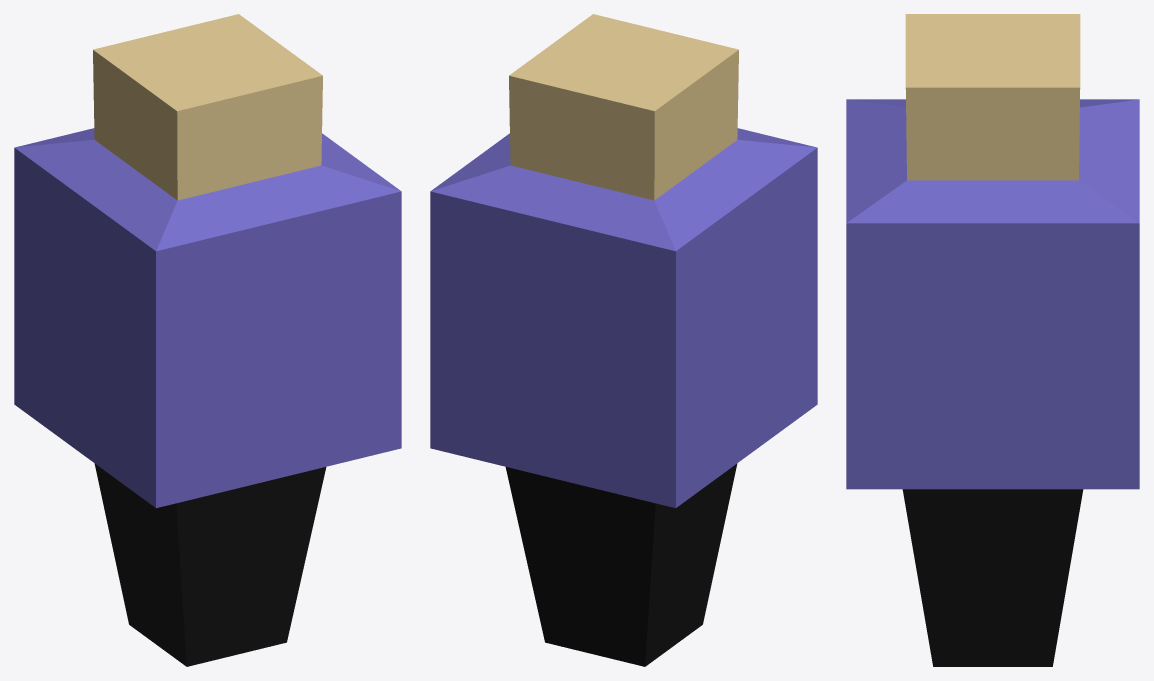
The model's file is PreUnitAssete.fbx.
3 renders of one model, left to right at view 1: azimuth 30°, elevation 25°; view 2: azimuth 150°, elevation 25°; view 3: azimuth 270°, elevation 25°, orthographic. The views are drawn at different scales.
Parts seen in each view (by area): view 1: Body, Head, Leg; view 2: Body, Head, Leg; view 3: Body, Head, Leg.
Boxes of the visible parts, x1=… form: Body: x1=14, y1=128, x2=401, y2=508; Head: x1=93, y1=14, x2=322, y2=200; Leg: x1=94, y1=463, x2=326, y2=666; Body: x1=430, y1=128, x2=817, y2=508; Head: x1=509, y1=14, x2=738, y2=200; Leg: x1=505, y1=463, x2=737, y2=666; Body: x1=846, y1=99, x2=1139, y2=489; Head: x1=905, y1=14, x2=1080, y2=180; Leg: x1=902, y1=489, x2=1083, y2=666.
Bounding box in the file's own units: 150 × 333 × 150.
